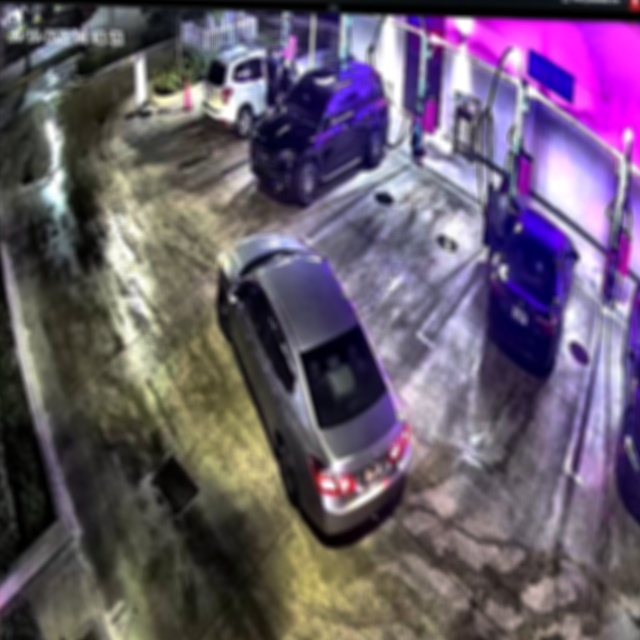Car: (215, 230, 408, 536), (250, 56, 391, 203), (490, 184, 582, 373)
